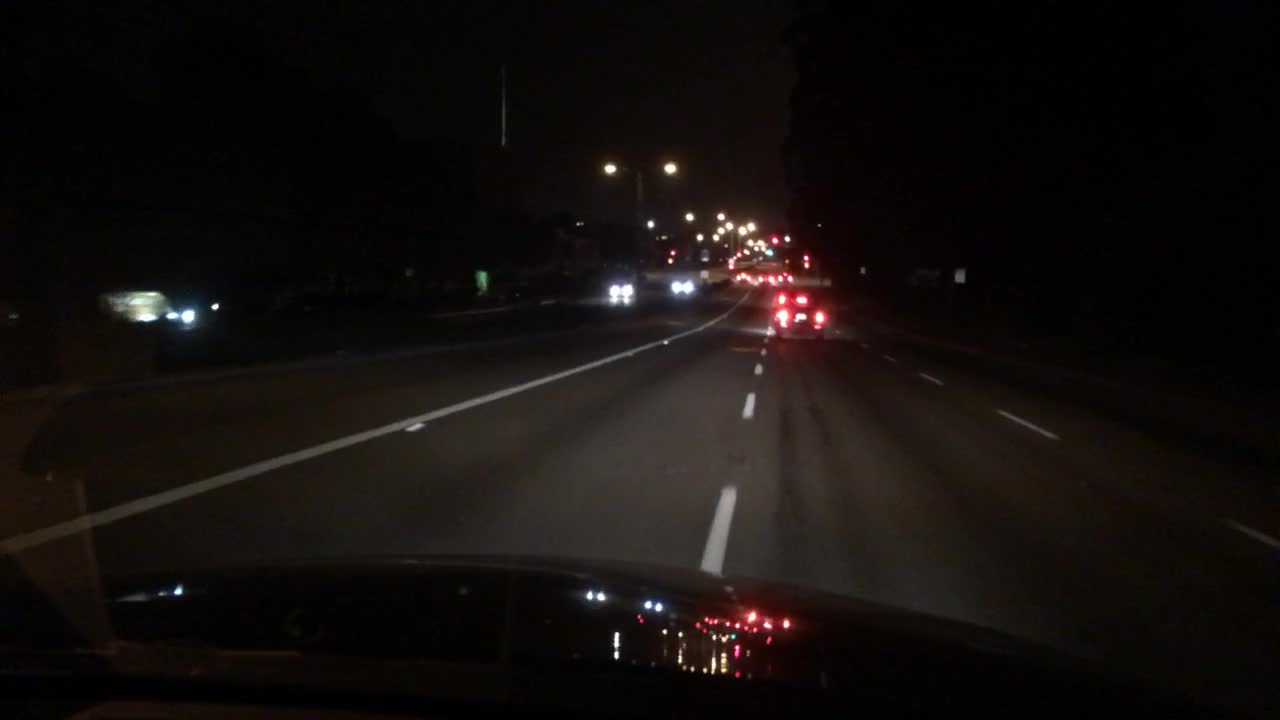car: (767, 302, 831, 342), (165, 297, 226, 332), (666, 273, 713, 302), (772, 287, 812, 312), (605, 273, 638, 299), (777, 271, 793, 286), (733, 271, 750, 285), (756, 273, 773, 286)
